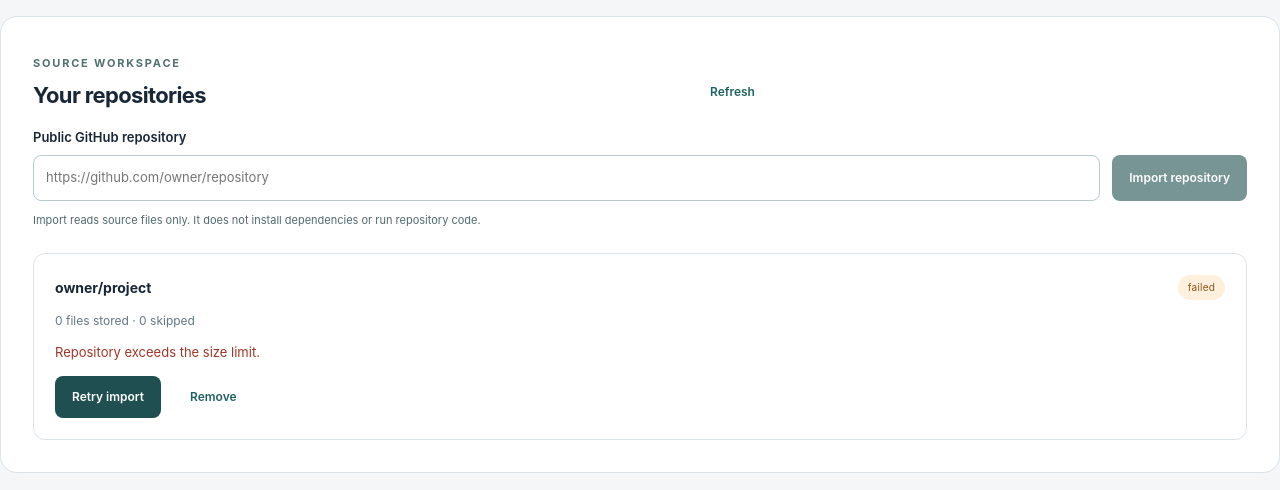
Test: repository workspace › shows failed imports and retries them
The width and height of the screenshot is (1280, 490).
Expected: the text "Repository exceeds the size limit." is shown, x1=55 y1=344 x2=260 y2=360
What coordinates should you click on to do the following:
click the button "Retry import"
I would click on:
 (108, 397)
Its box is x1=55 y1=376 x2=161 y2=418.
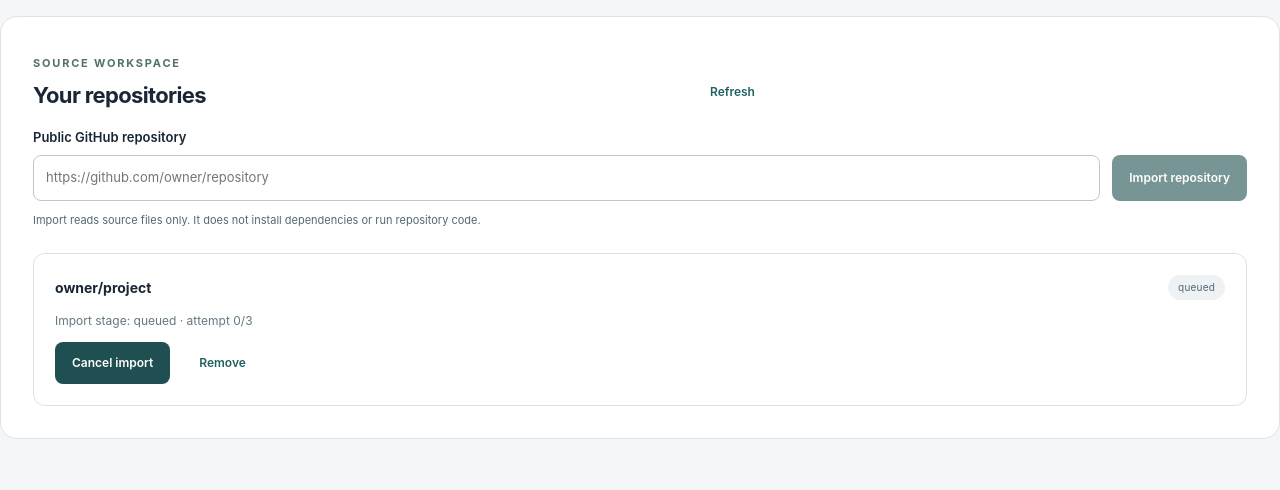
Result: the text "queued" is shown at x1=1168 y1=275 x2=1225 y2=300
